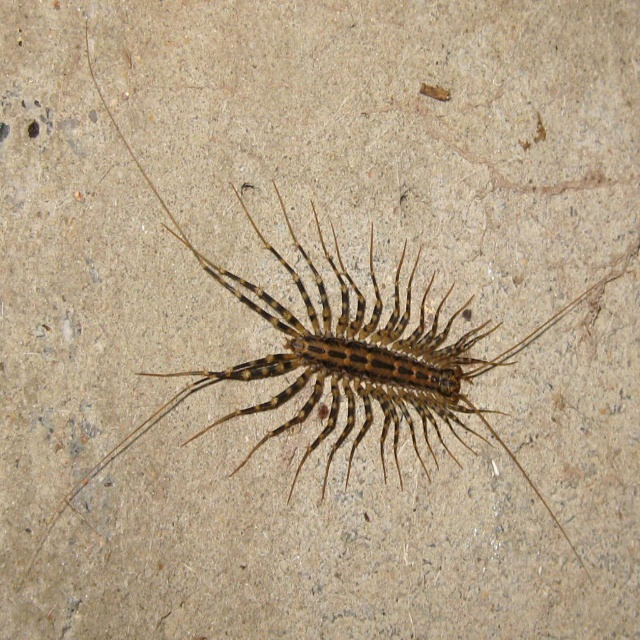Centipede: (11, 19, 624, 594)
